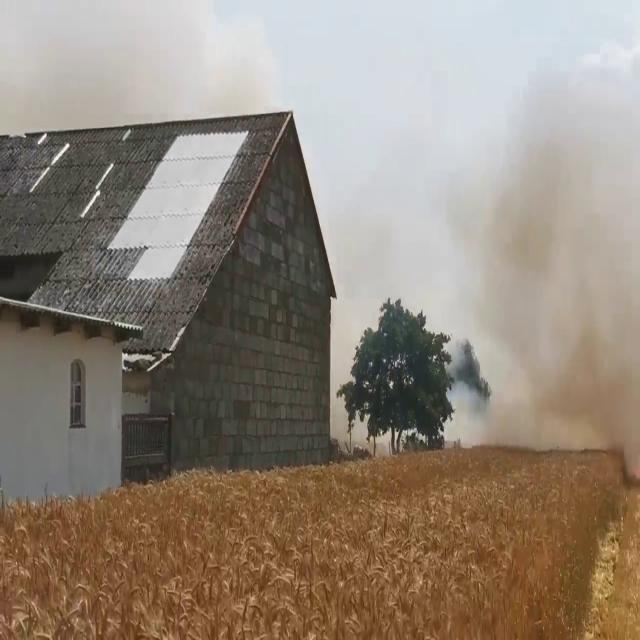Smoke: (431, 19, 640, 484)
